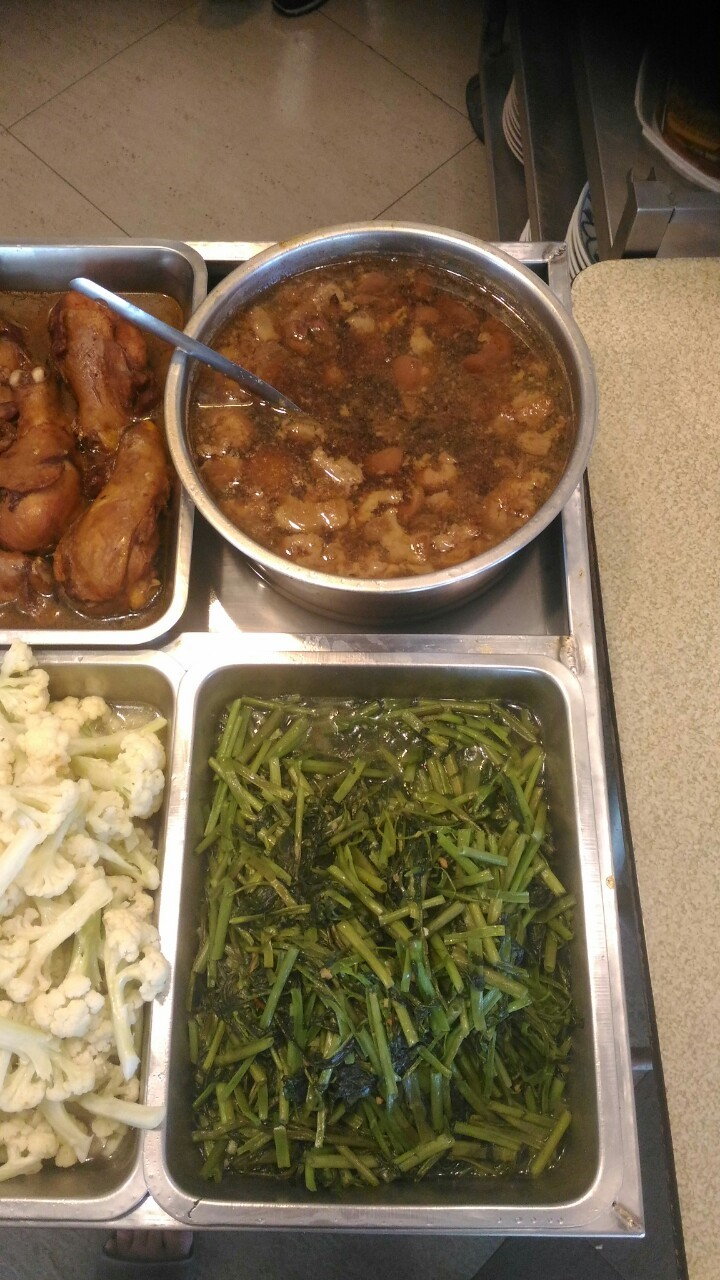water_spinach: (222, 702, 561, 1176)
